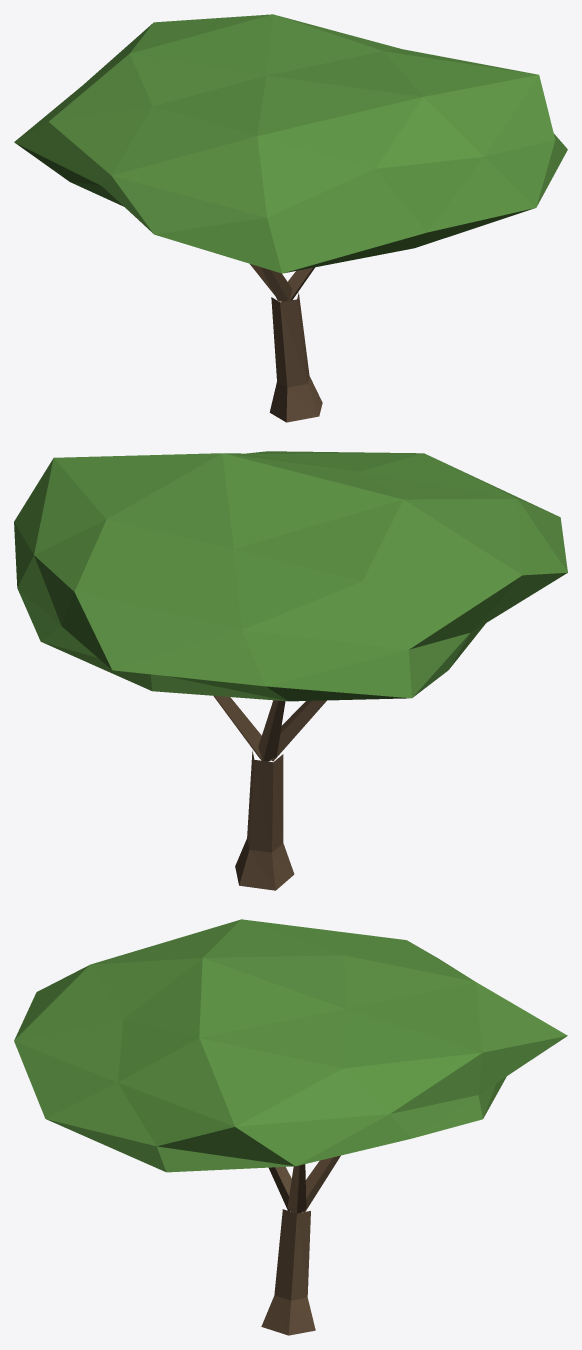
The model's file is umbrella_b_lod1.glb.
3 renders of one model, top to bottom at view 1: azimuth 30°, elevation 25°; view 2: azimuth 150°, elevation 25°; view 3: azimuth 270°, elevation 25°, orthographic. The views are drawn at different scales.
Visible parts, largest first — view 1: umbrella; view 2: umbrella; view 3: umbrella.
Part boxes in pixels (left/top/right/bottom): umbrella: left=14, top=14, right=567, bottom=422; umbrella: left=14, top=451, right=567, bottom=890; umbrella: left=14, top=919, right=567, bottom=1335.
Bounding box in the file's own units: 14.71 × 10.78 × 16.4.
